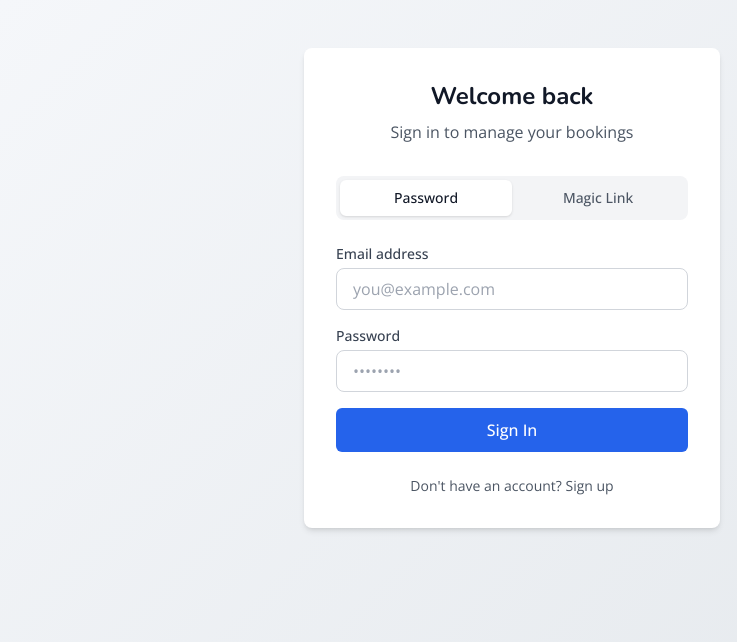
Test: LR-LG UI & structure › LR-LG-008: pending login disables the button and swaps the label
In the field labelled "Email address": [512, 289] box x1=336 y1=268 x2=688 y2=310, type "a@example.com"
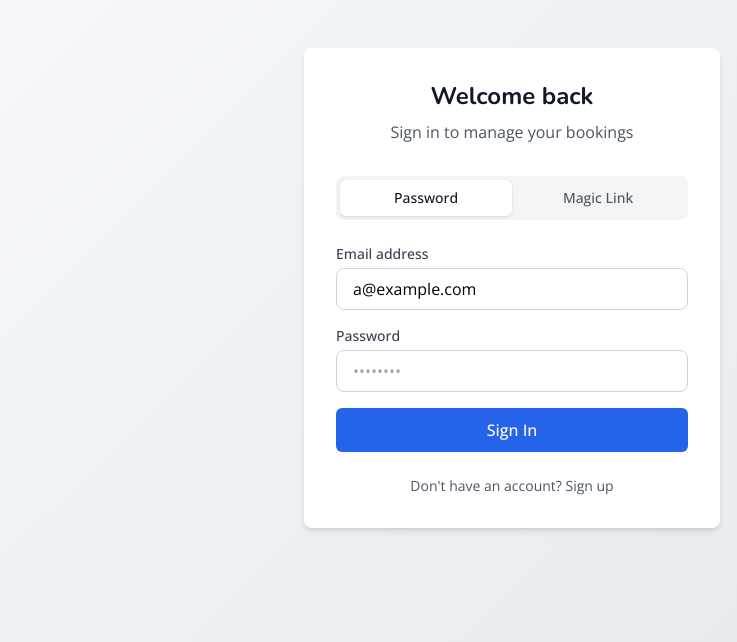
In the password field labelled "Password": [512, 371] box x1=336 y1=350 x2=688 y2=392, type "secret"
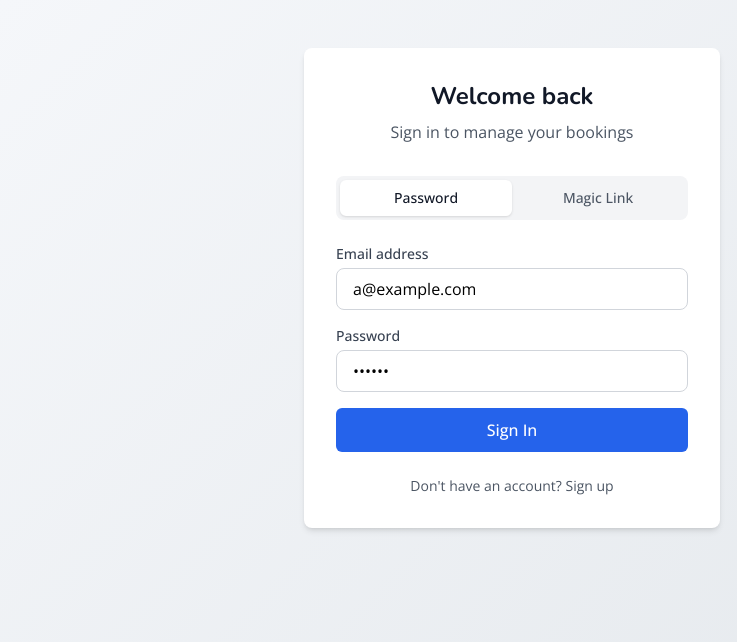
Submit the form, box x1=336 y1=244 x2=688 y2=452
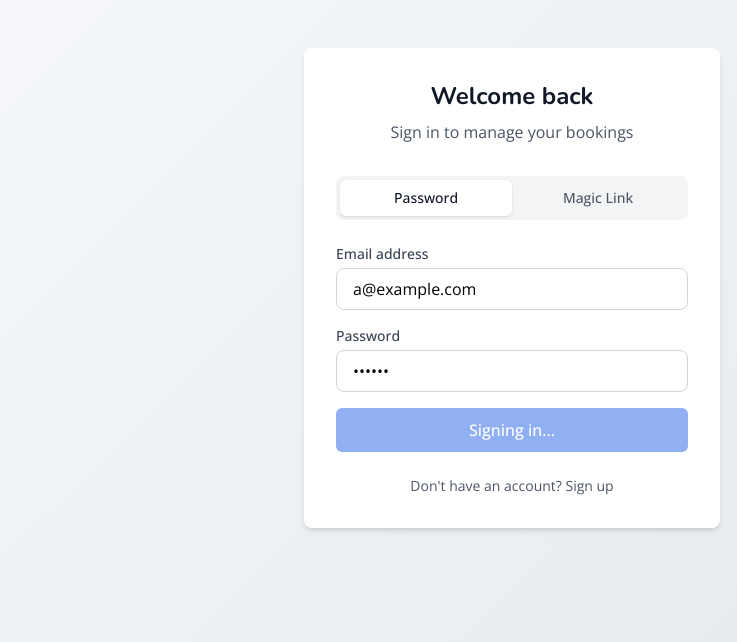
Now the button "Signing in..." is disabled, box x1=336 y1=408 x2=688 y2=452
